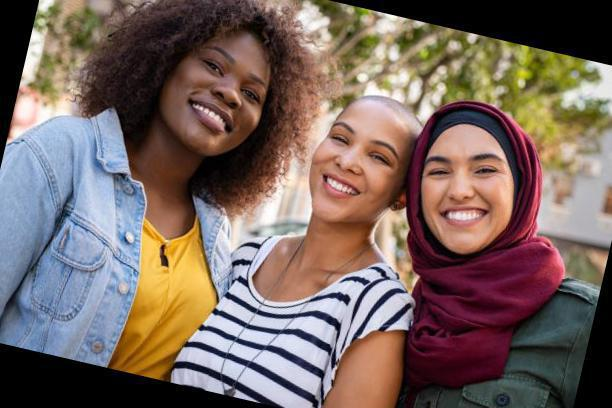Sober: (174, 32, 265, 148), (428, 125, 507, 242), (319, 116, 394, 214)
